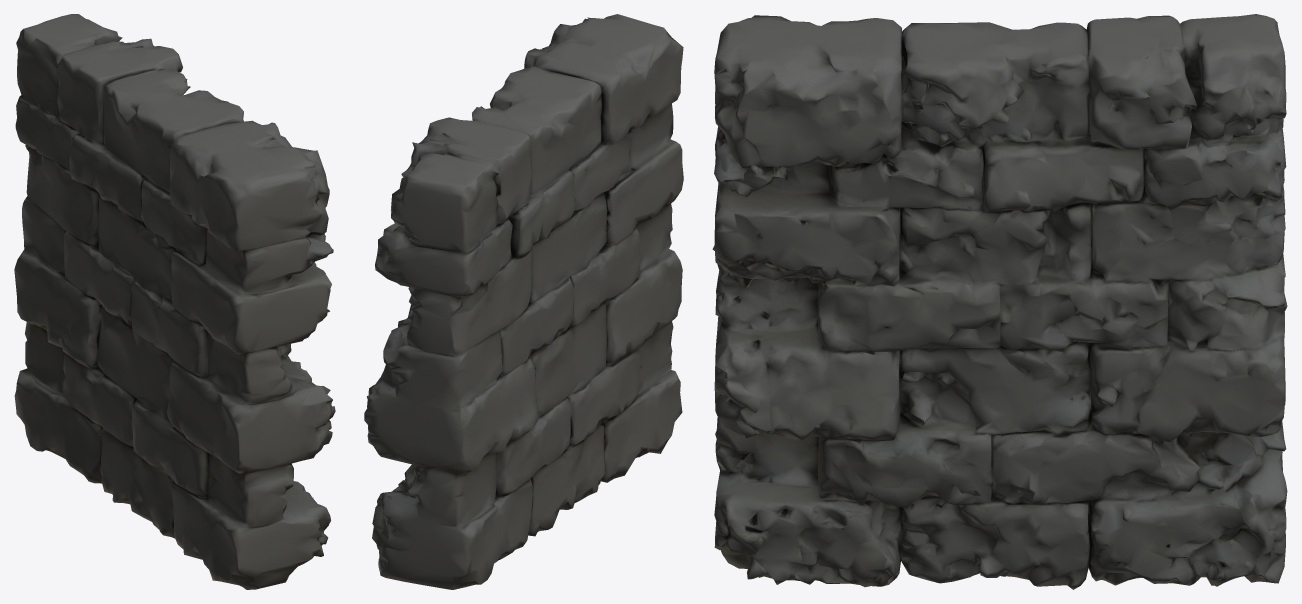
The model's file is ashlar_hi.glb.
3 views of the same model, side by side, from view 1: azimuth 30°, elevation 25°; view 2: azimuth 150°, elevation 25°; view 3: azimuth 270°, elevation 25° (orthographic). The views are drawn at different scales.
Parts seen in each view (by area): view 1: tripo_node_e183852e-2424-47ab-9dc1-d6929359bbd2; view 2: tripo_node_e183852e-2424-47ab-9dc1-d6929359bbd2; view 3: tripo_node_e183852e-2424-47ab-9dc1-d6929359bbd2.
Part boxes in pixels (box(x1,y1,x2,y2)): tripo_node_e183852e-2424-47ab-9dc1-d6929359bbd2: box(14, 14, 335, 589); tripo_node_e183852e-2424-47ab-9dc1-d6929359bbd2: box(364, 14, 683, 589); tripo_node_e183852e-2424-47ab-9dc1-d6929359bbd2: box(712, 14, 1287, 589).
Size of the model in its own units: 0.2814 by 1 by 0.997.
1 material, 1 textured.
